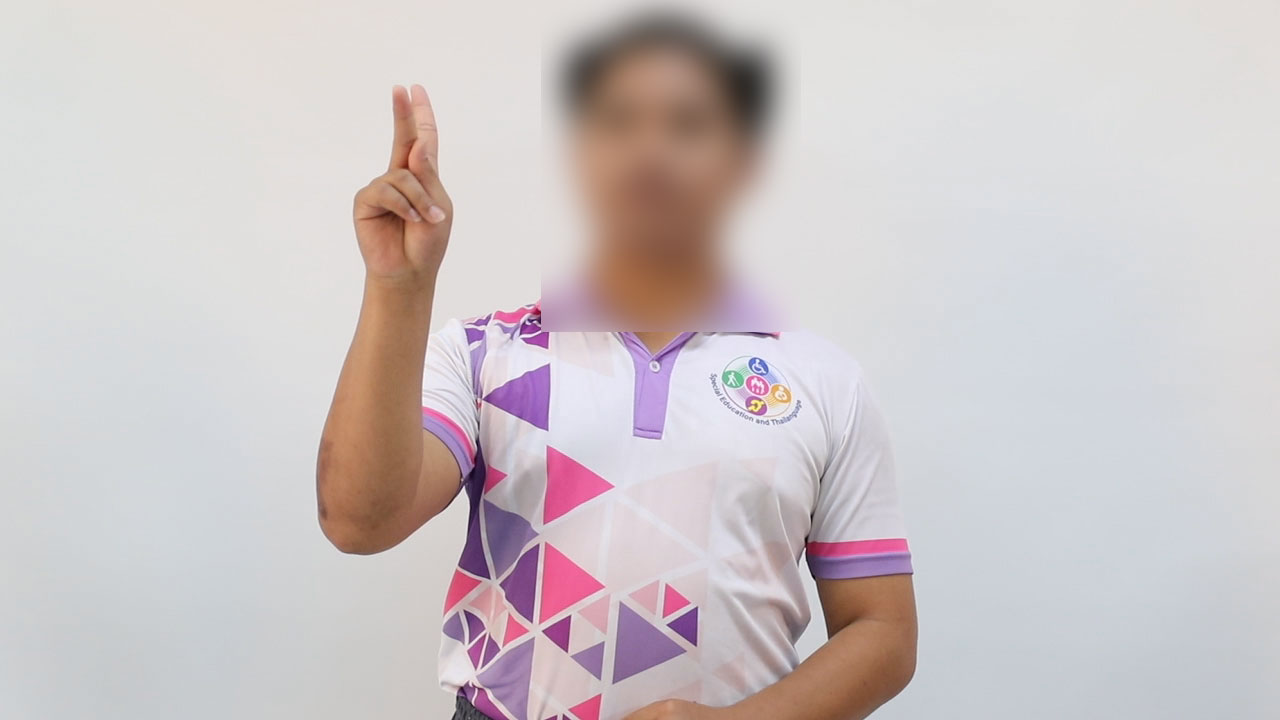ko: (340, 68, 464, 282)
